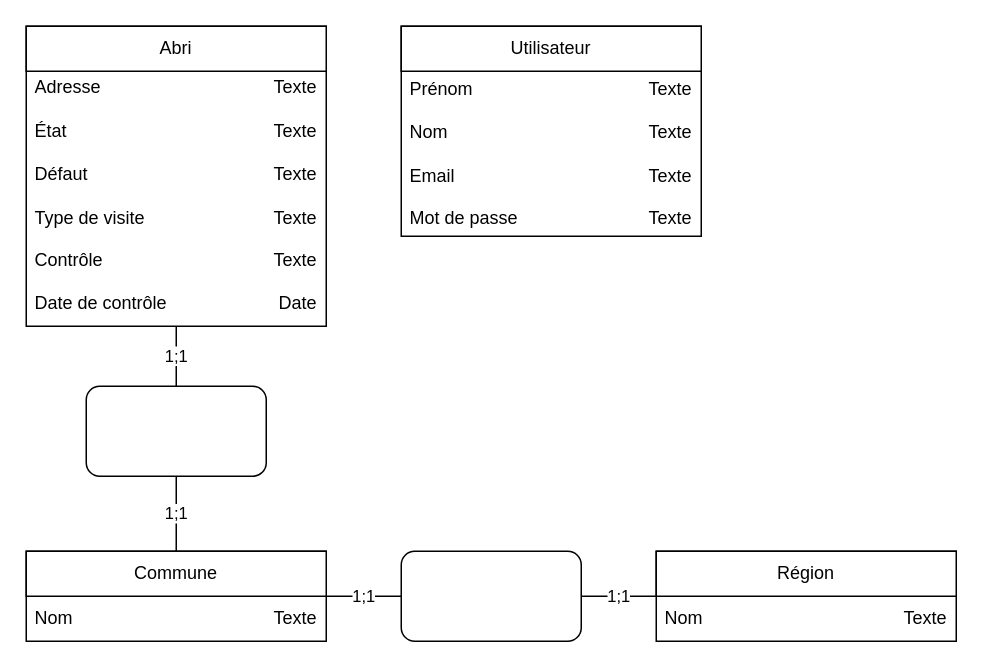
Some shapes in this 983 by 668 pixel diagram are drawn without their labels. The shapes that lost their labels are listed below. From the top down, each one's centre as x and y in pixels, then its label:
(x=175, y=430): Se trouver
(x=490, y=595): Appartenir
